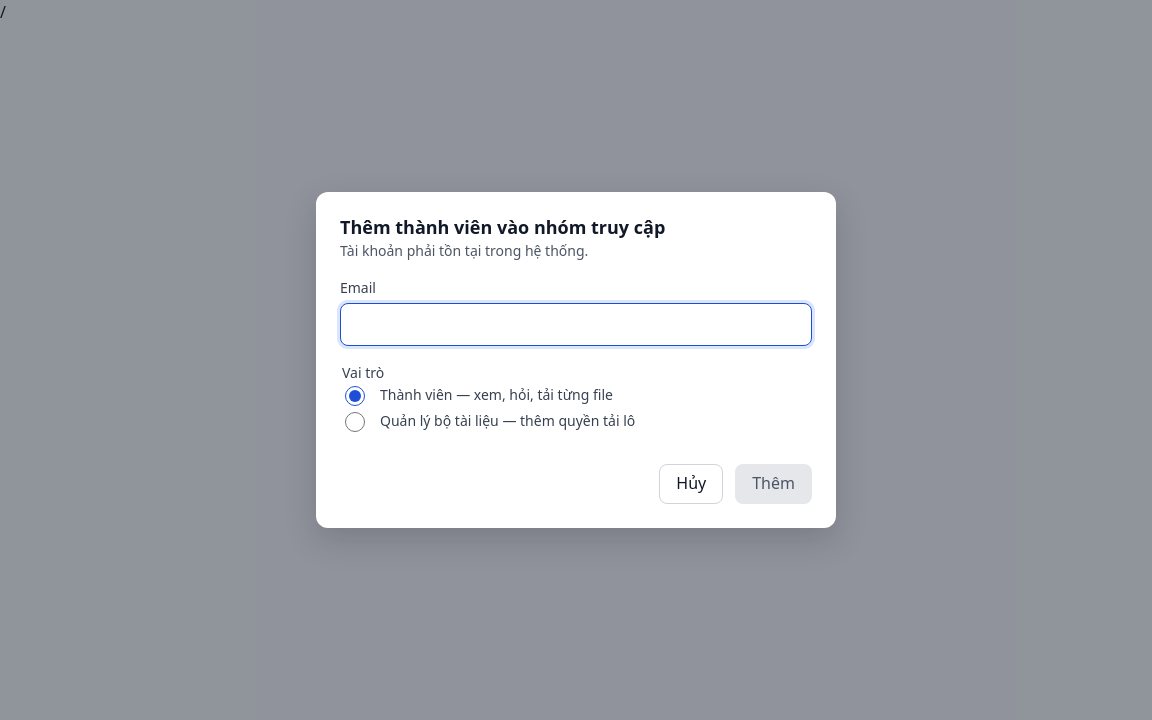
AddMemberDialog › USER_NOT_FOUND hiện lỗi ngay dưới ô email
Type "nobody@demo.local" into the field labelled "Email" at point(576, 324), box top-left (340, 303), bottom-right (812, 346)
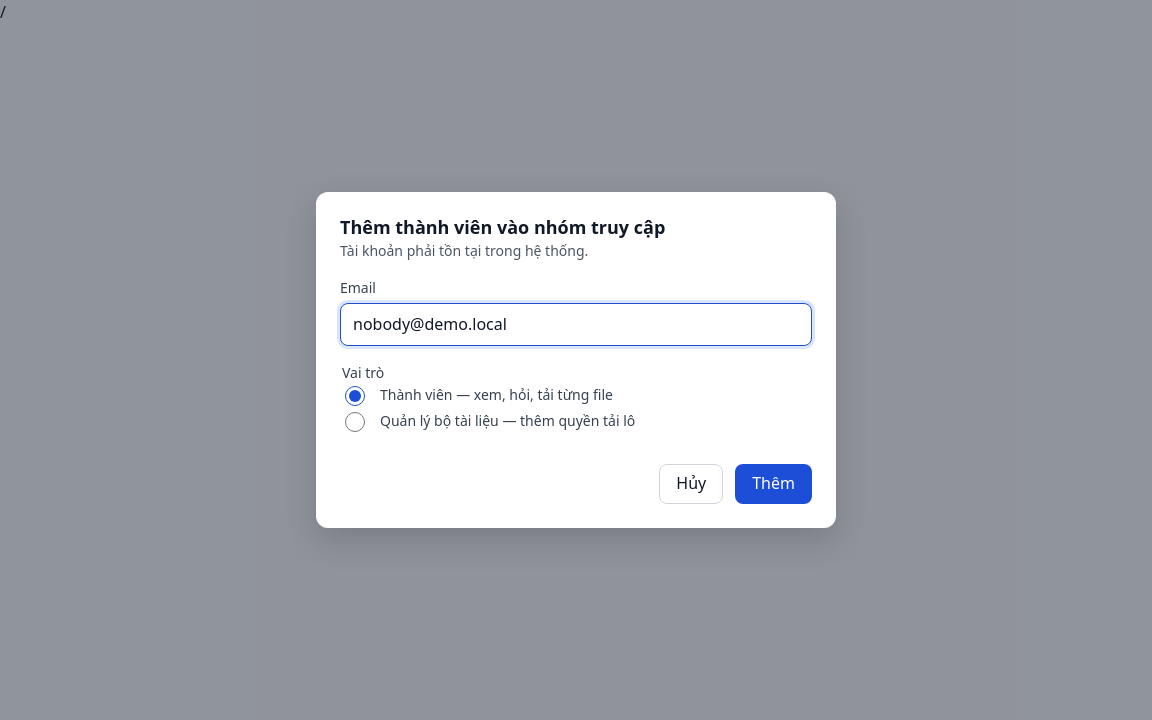
Click the button "Thêm" at point(774, 484), box top-left (735, 464), bottom-right (812, 504)
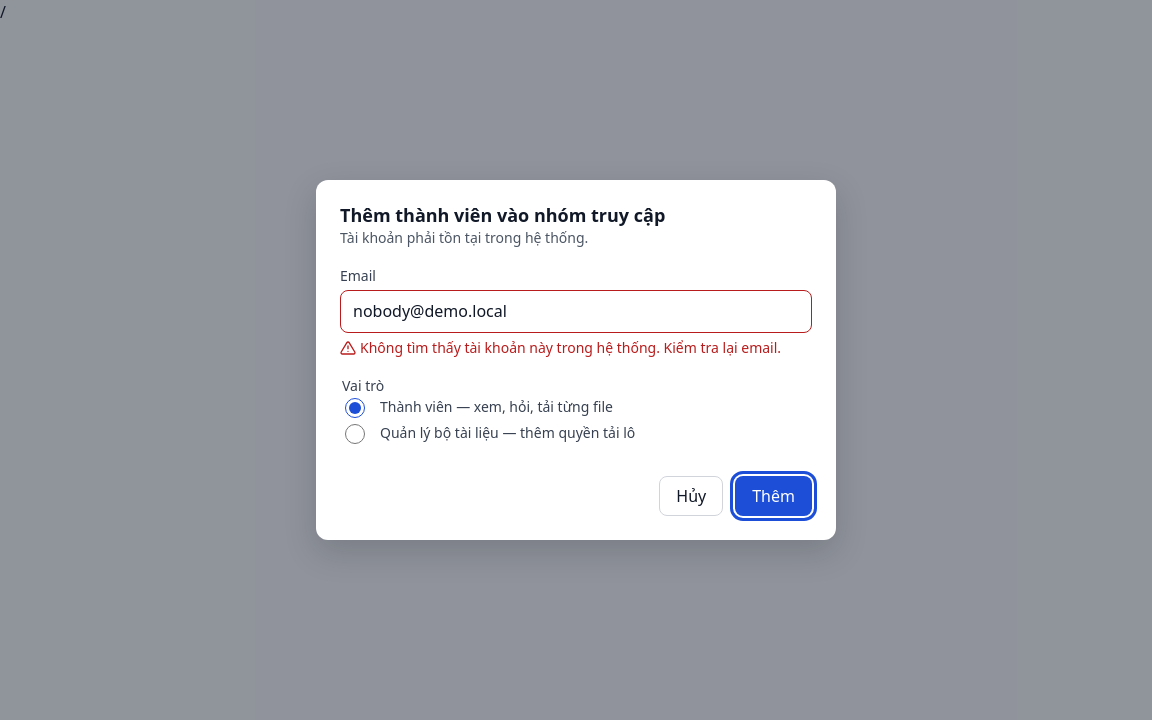
Check: the text "Không tìm thấy tài khoản này trong hệ thống. Kiểm tra lại email." is shown, box top-left (340, 337), bottom-right (812, 359)
